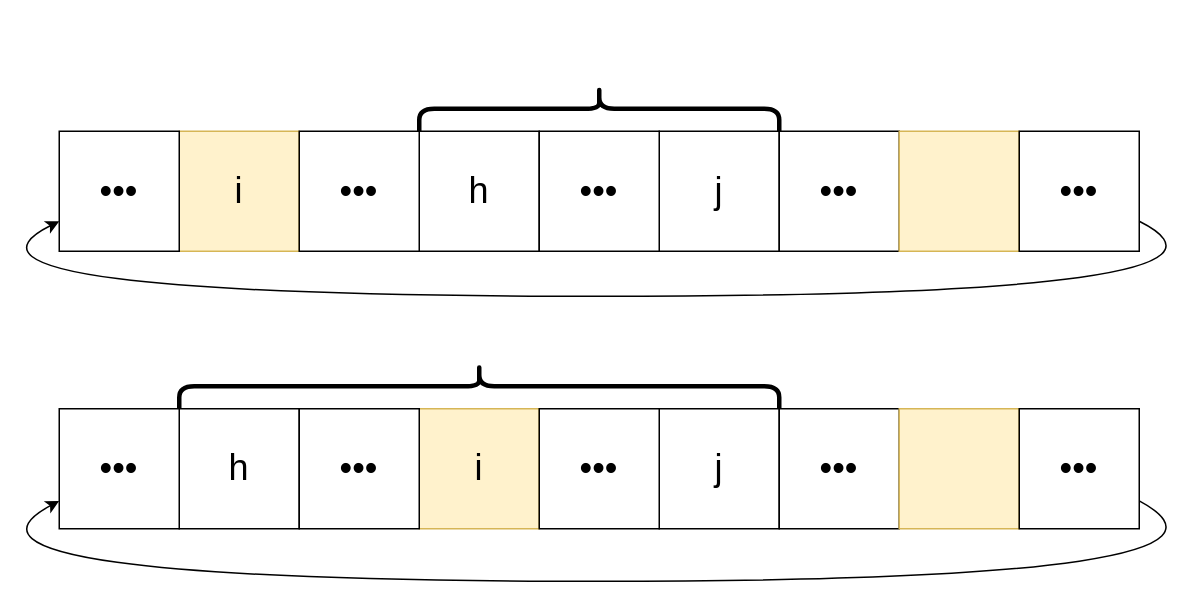
Some shapes in this 1193 by 608 pixel diagram are drawn without their labels. Each missing label, with the box of its shape:
一个空位：i: (176, 361, 781, 410)
无空位: (416, 83, 781, 133)
